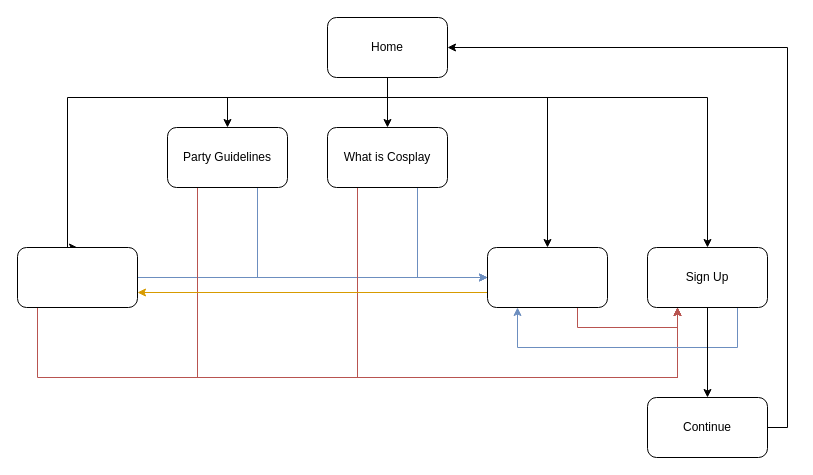
Some shapes in this 813 by 475 pixel diagram are drawn without their labels. The centre of each missing label's shape, as x and y in pixels:
"About Us" goes at (547,277).
"Costumes" goes at (77,277).
